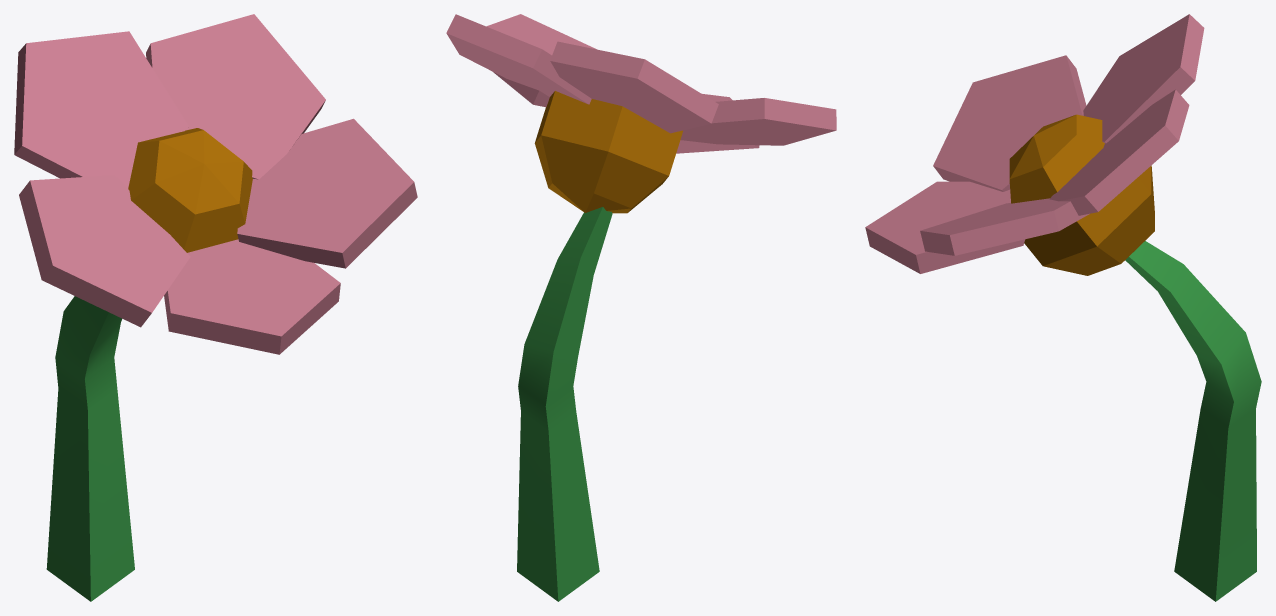
The model's file is flower.fbx.
The picture shows the model from 3 angles, left to right: view 1: azimuth 30°, elevation 25°; view 2: azimuth 150°, elevation 25°; view 3: azimuth 270°, elevation 25°; orthographic projection. The views are drawn at different scales.
Visible parts, largest first — view 1: pCylinder8; view 2: pCylinder8; view 3: pCylinder8.
Part boxes in pixels (<box>): pCylinder8: <box>14,14,417,601</box>; pCylinder8: <box>446,14,836,601</box>; pCylinder8: <box>865,14,1261,601</box>.
Size of the model in its own units: 4.79 by 7.18 by 4.85.
